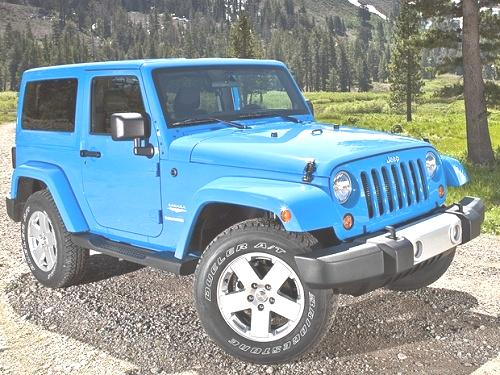jeep: (381, 151, 405, 166)
